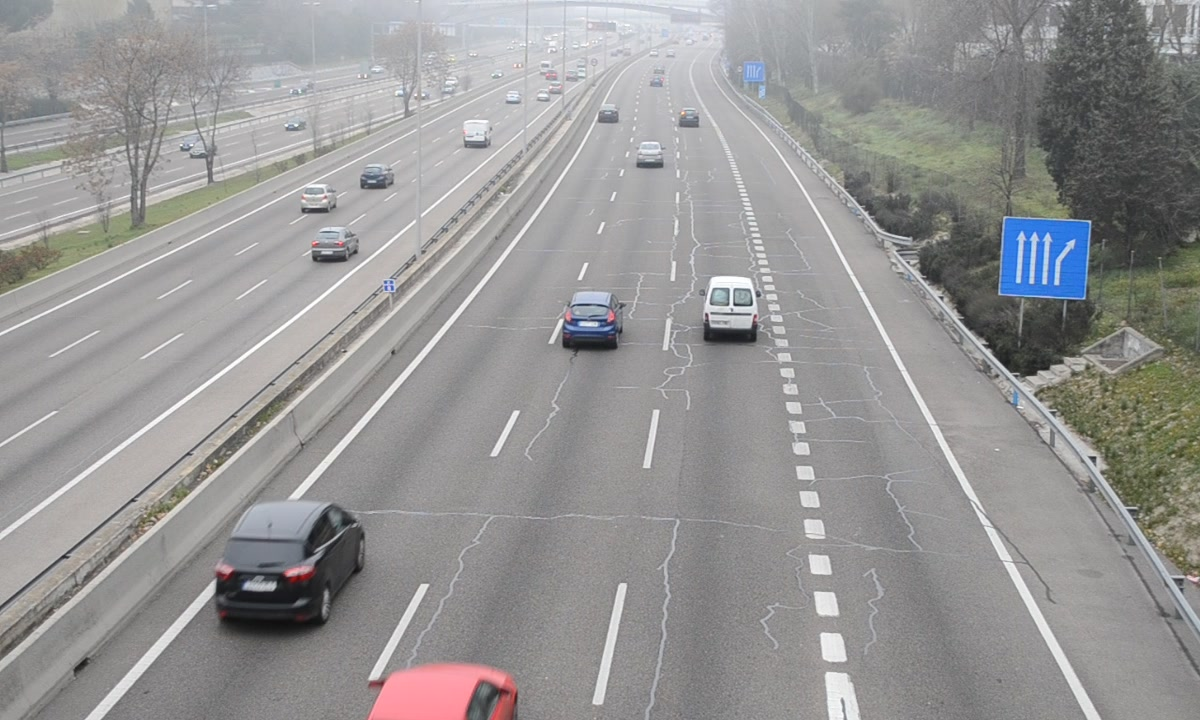car: (215, 502, 362, 624), (563, 292, 619, 348), (635, 142, 665, 168), (678, 107, 701, 129), (598, 102, 621, 124)
van: (704, 275, 758, 340)
